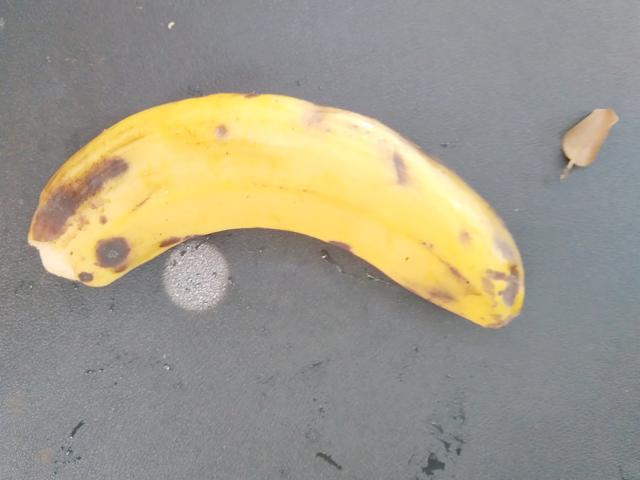overripe: (21, 61, 540, 354)
